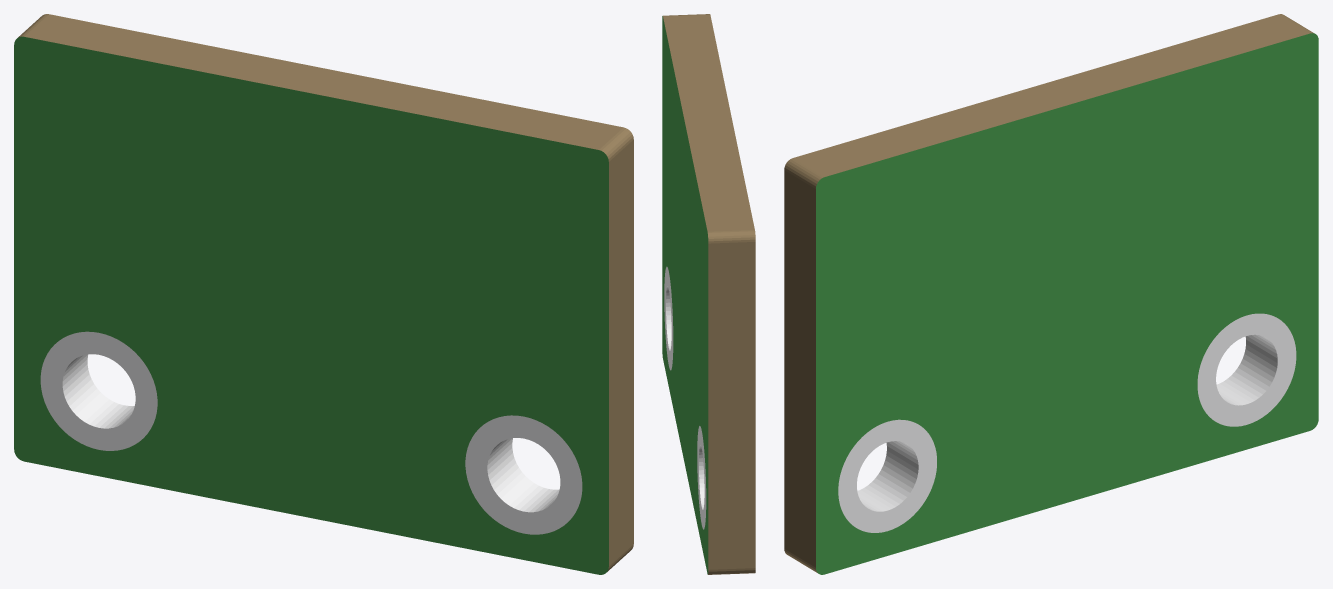
File: tof_left_1.dae
3 renders of one model, left to right at view 1: azimuth 30°, elevation 25°; view 2: azimuth 150°, elevation 25°; view 3: azimuth 270°, elevation 25°, orthographic. The views are drawn at different scales.
Parts seen in each view (by area): view 1: part_0_node, part_1_node, part_2_node; view 2: part_1_node, part_0_node, part_2_node; view 3: part_0_node, part_1_node, part_2_node.
Boxes of the visible parts, left/top/right/bottom form: part_0_node: left=14, top=36, right=608, bottom=574; part_1_node: left=18, top=14, right=633, bottom=571; part_2_node: left=40, top=331, right=582, bottom=534; part_1_node: left=663, top=14, right=755, bottom=574; part_0_node: left=662, top=16, right=708, bottom=574; part_2_node: left=664, top=266, right=706, bottom=529; part_0_node: left=816, top=33, right=1318, bottom=574; part_1_node: left=784, top=14, right=1313, bottom=572; part_2_node: left=838, top=313, right=1296, bottom=532.
Bounding box in the file's own units: 11.51 × 15.48 × 12.7.
